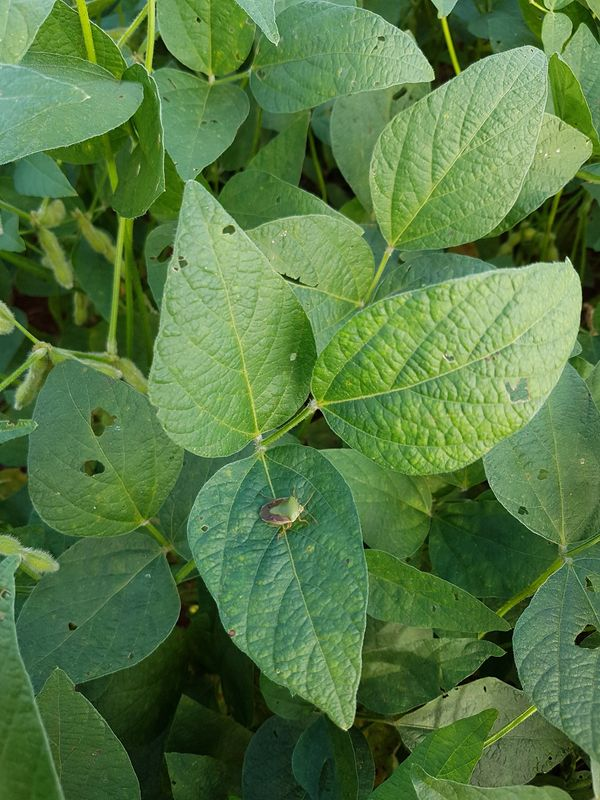Edessa_meditabunda: (250, 485, 316, 539)
